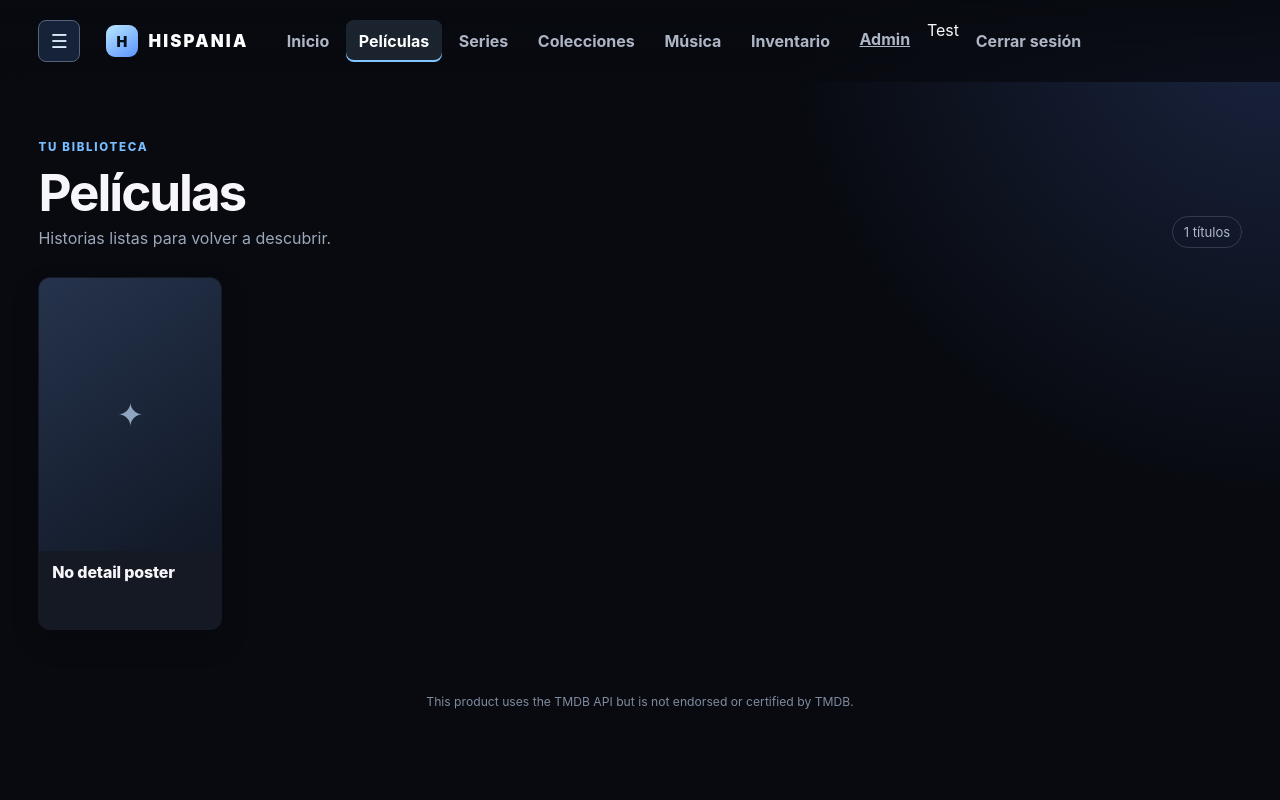
App › uses a detail placeholder when metadata has no poster deliveryUrl
Expected: the navigation bar named "Navegación principal" is shown, [274,20,1094,62]
Click the button "✦ No detail poster": (130, 454) [38,277,222,630]
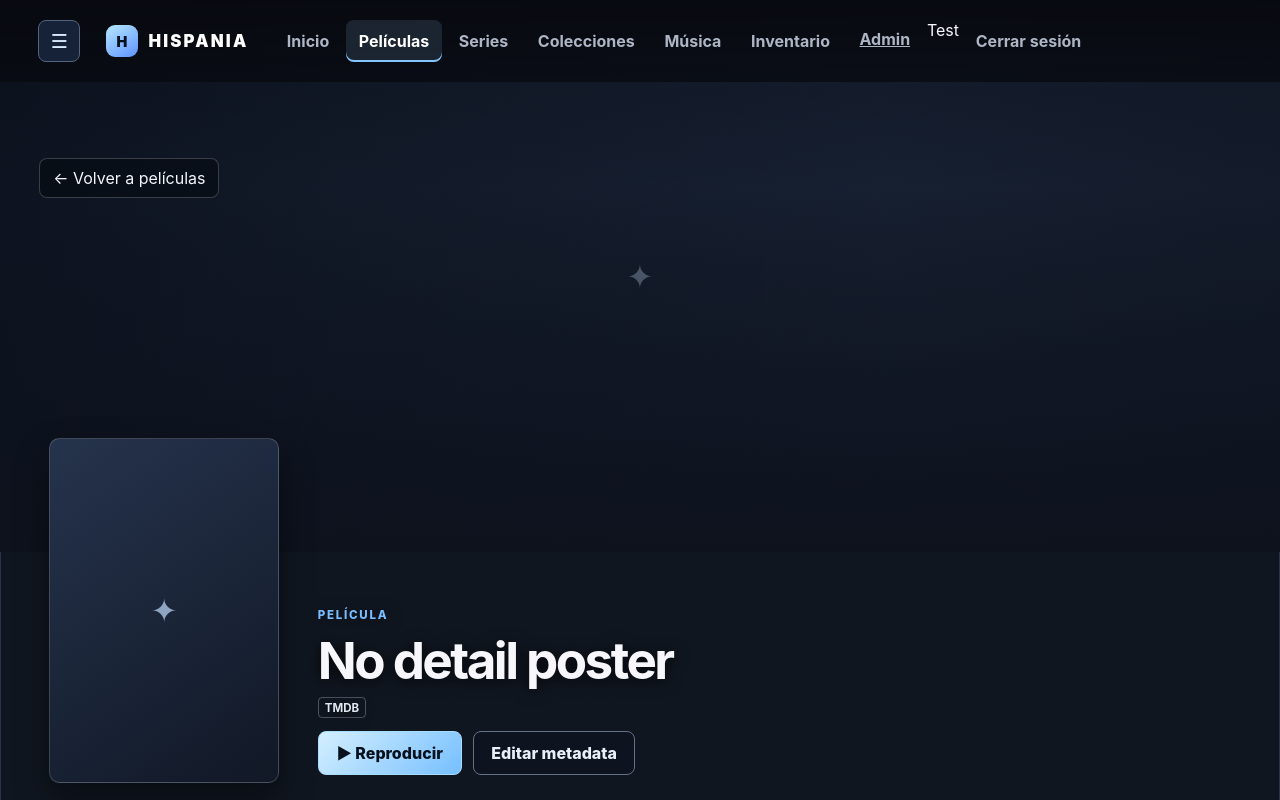
Now the text "✦" is shown, box [49,438,279,783]
Now the text with test id "backdrop-placeholder" is shown
